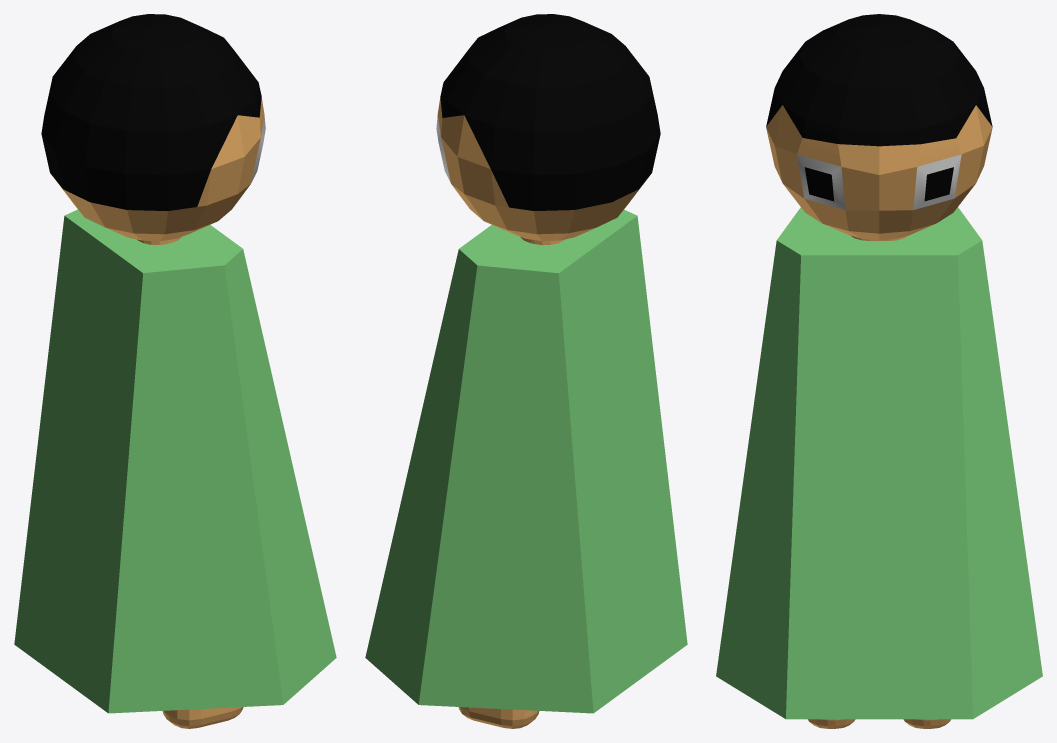
File: Karen.fbx
The picture shows the model from 3 angles, left to right: view 1: azimuth 30°, elevation 25°; view 2: azimuth 150°, elevation 25°; view 3: azimuth 270°, elevation 25°; orthographic projection.
Parts seen in each view (by area): view 1: Cube; view 2: Cube; view 3: Cube.
Part boxes in pixels (x1,y1,x2,y2): Cube: (14, 14, 336, 728); Cube: (365, 14, 687, 728); Cube: (716, 14, 1042, 728).
Bounding box in the file's own units: 52.25 × 146 × 63.53.
